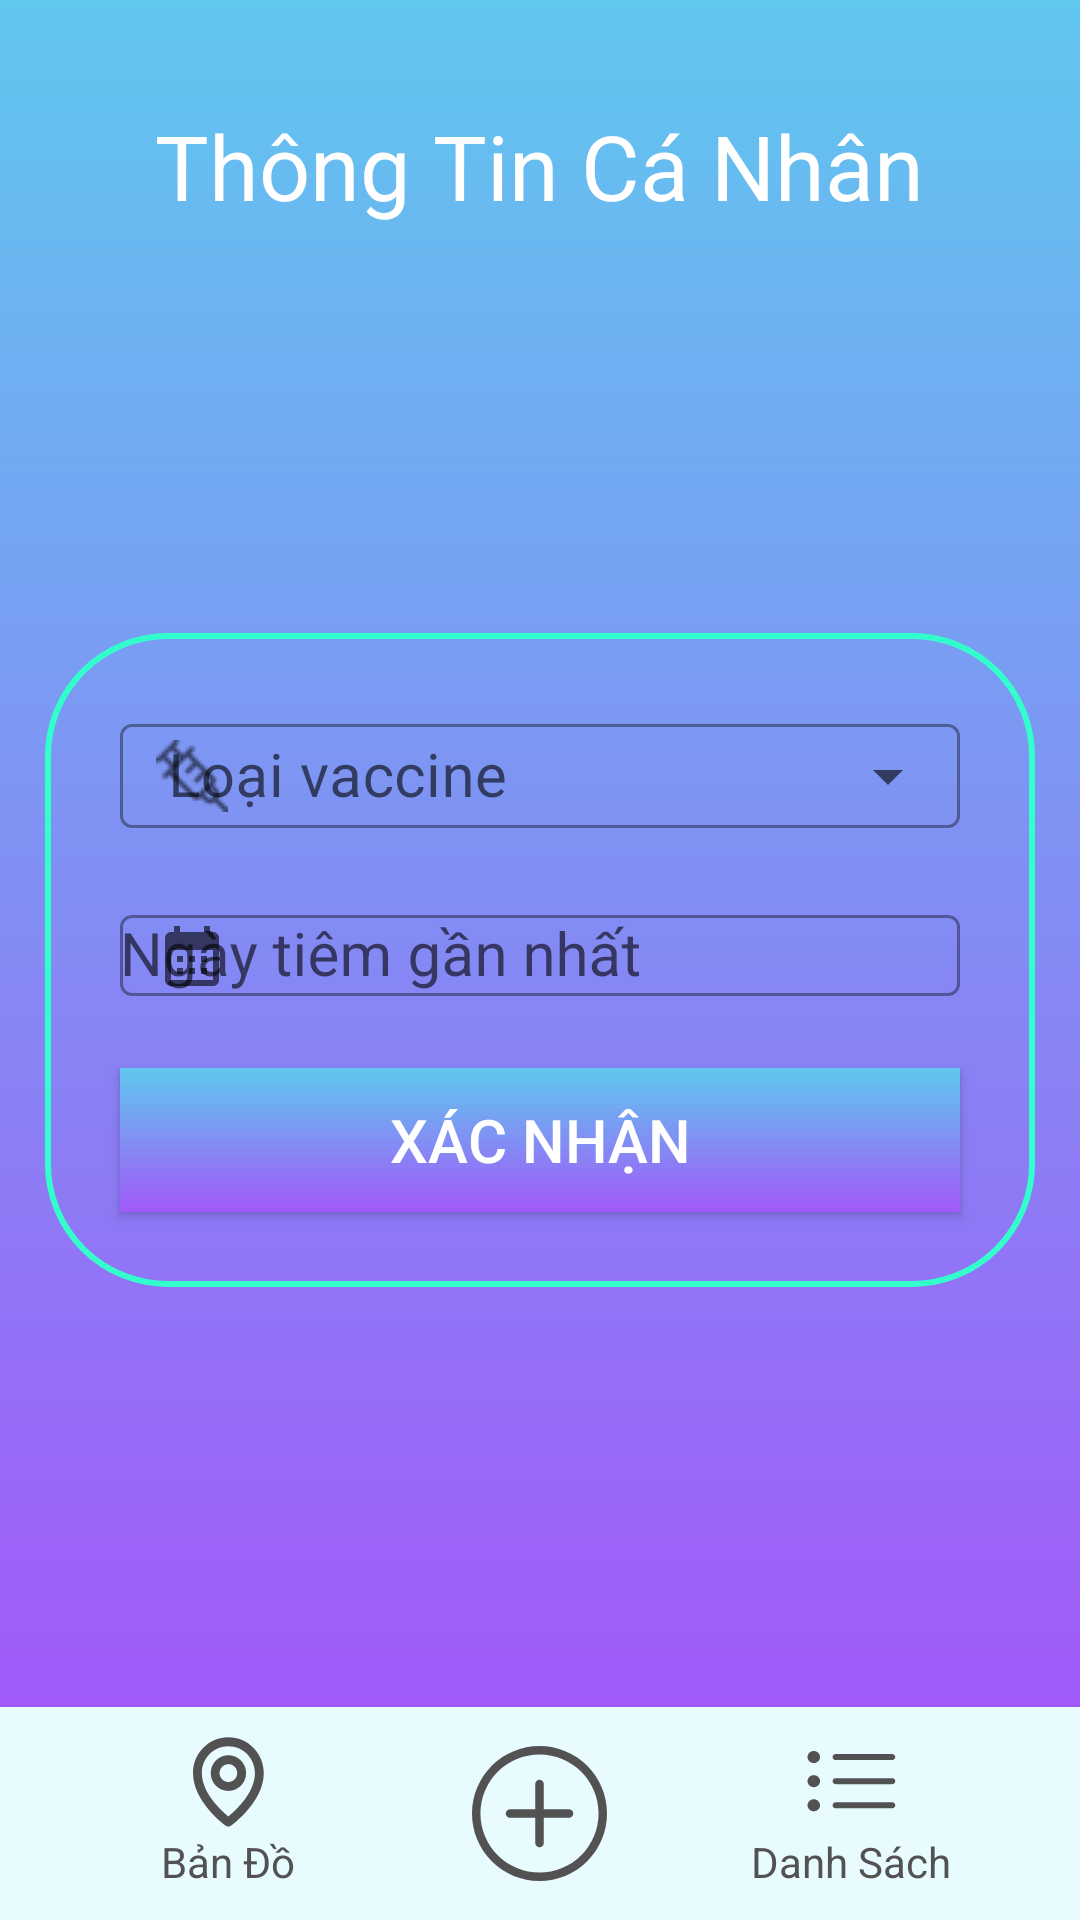

Named icons in this screenshot (1080x1920) and their bounding boxes, box=[x1, y1, x2, y2]:
plus: box=[472, 1746, 607, 1881]
